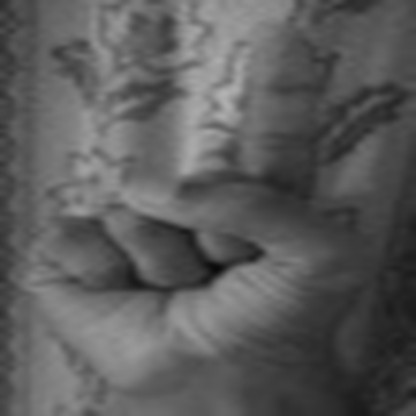d: (5, 18, 376, 416)
